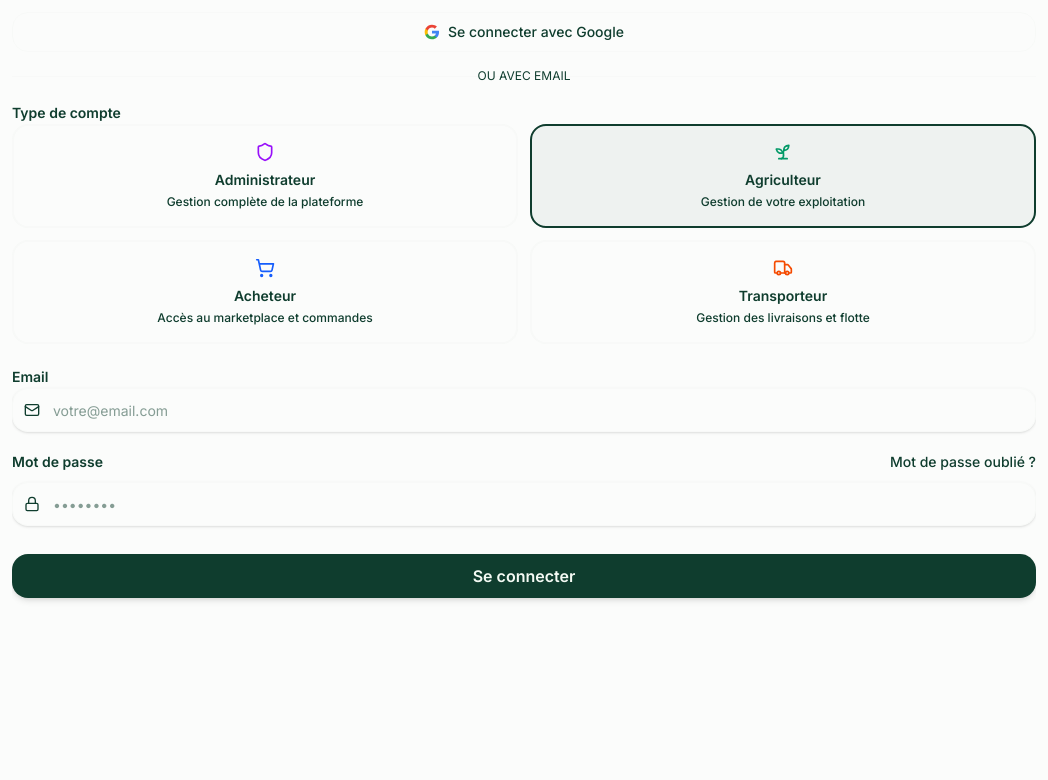
LoginForm › Validation des champs › devrait afficher une erreur si l'email est vide
Click the field labelled "Email" at x=524, y=410, box [12,388,1036,432]
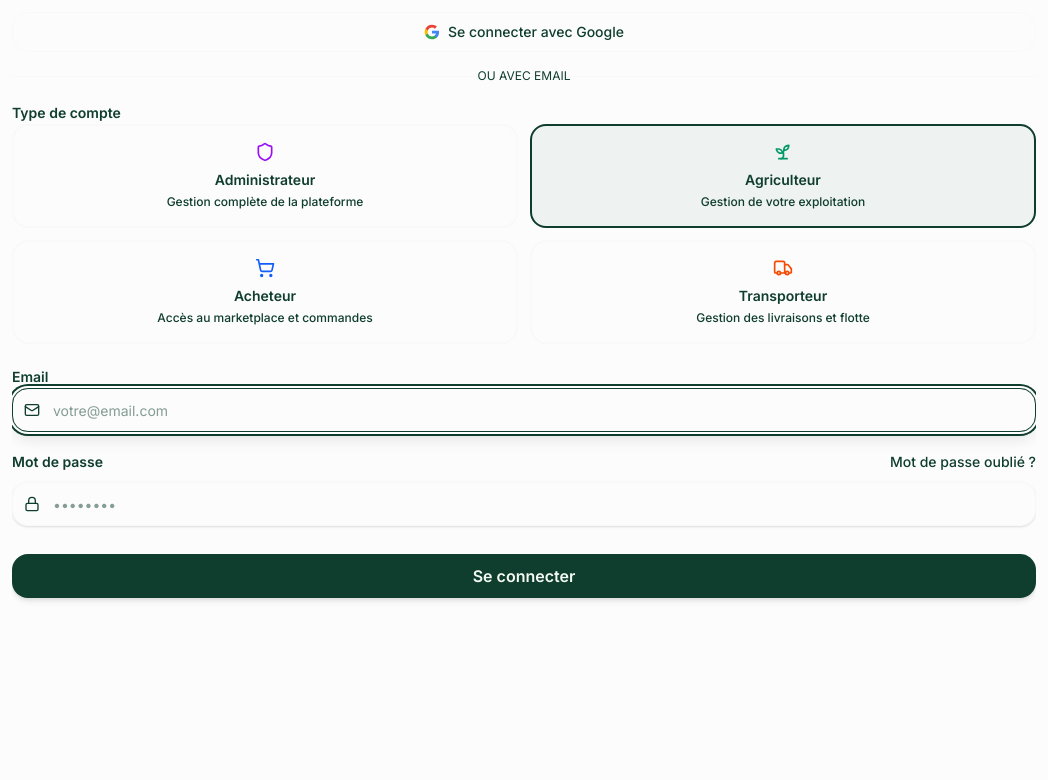
Press Tab
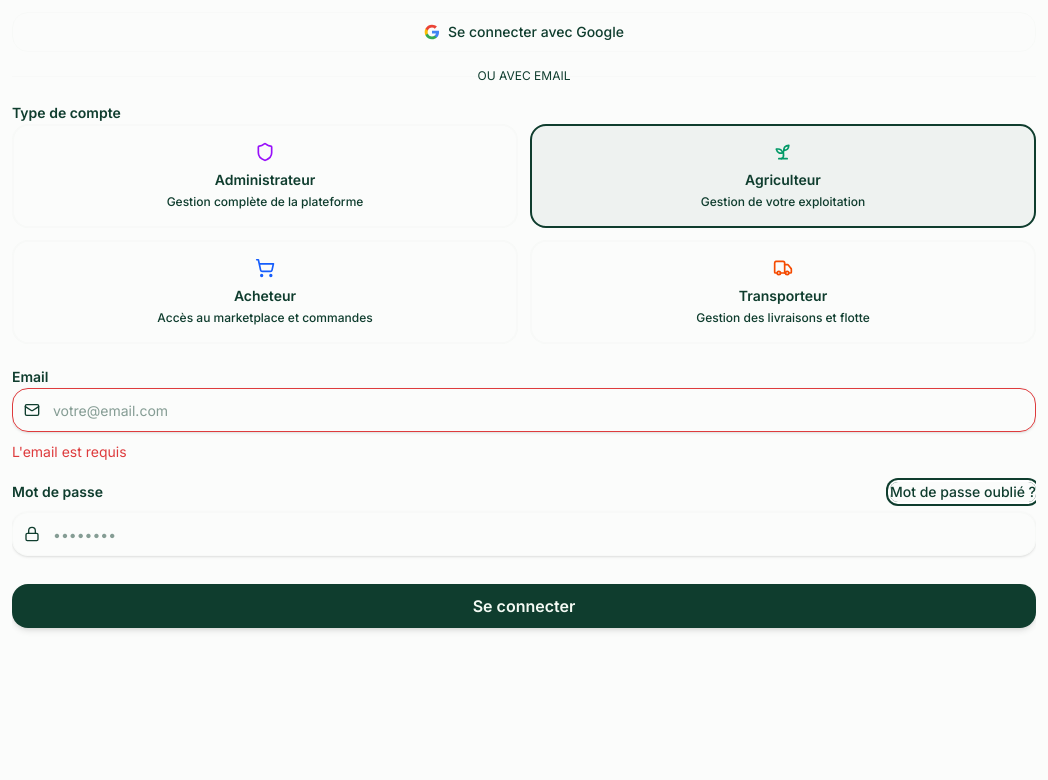
Expected: the text "L'email est requis" is shown, [12,443,126,460]
